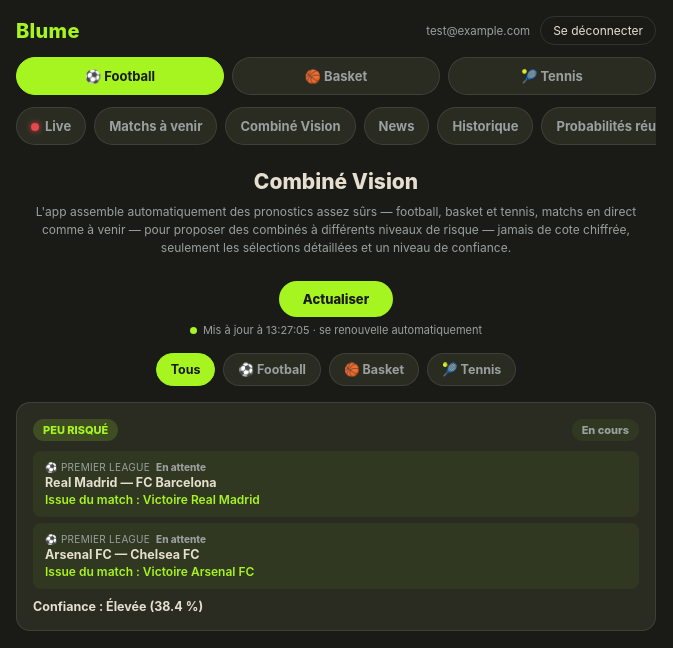
Test case: une actualisation remplace entièrement les anciennes propositions, qui ne restent jamais affichées
Expected: the text "Arsenal FC — Chelsea FC" is shown, [45,547,200,562]
Click the button "Actualiser" at (336, 299), box [279,281,393,317]
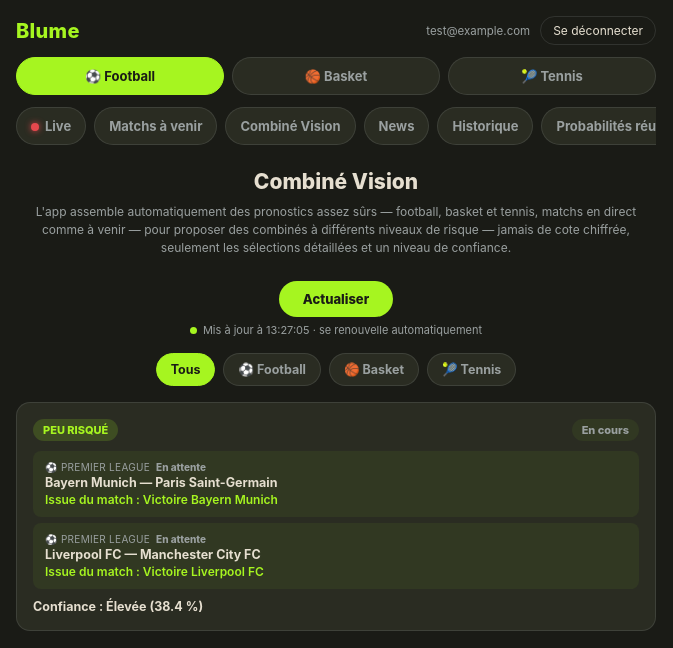
Now the text "Bayern Munich — Paris Saint-Germain" is shown, box [45,475,278,490]
Now no buttons "Arsenal FC" are shown
Now no buttons "Real Madrid" are shown
